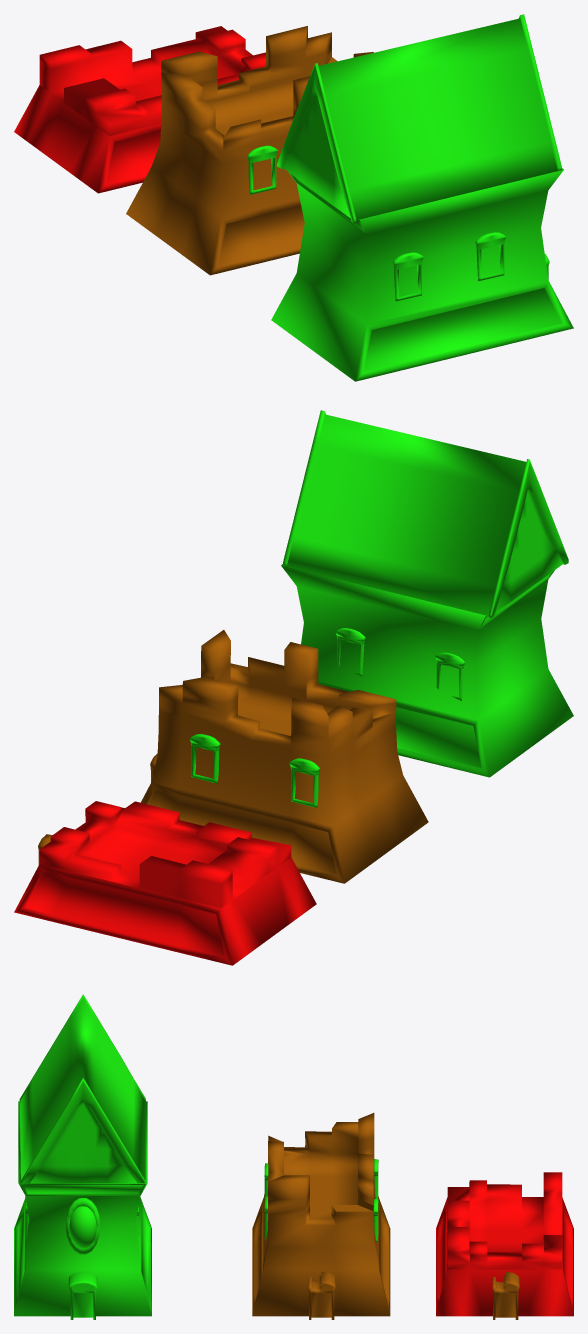
The model's file is arthurjourda_building.fbx.
3 renders of one model, top to bottom at view 1: azimuth 30°, elevation 25°; view 2: azimuth 150°, elevation 25°; view 3: azimuth 270°, elevation 25°, orthographic. The views are drawn at different scales.
Parts seen in each view (by area): view 1: Maison, Toit, Maison001, Maison003, Fenêtre, Fenêtre001; view 2: Maison001, Toit, Maison, Maison003, Fenêtre001, Fenêtre; view 3: Maison001, Toit, Maison003, Maison, Porte, Porte001, Porte002, Joyaux, Or, Fenêtre001.
Boxes of the visible parts, x1,y1,x2,y2 form: Maison: [271, 168, 573, 381]; Toit: [277, 14, 561, 223]; Maison001: [126, 26, 373, 275]; Maison003: [14, 26, 265, 193]; Fenêtre: [392, 232, 506, 301]; Fenêtre001: [247, 145, 277, 194]; Maison001: [141, 630, 428, 883]; Toit: [283, 410, 568, 617]; Maison: [281, 564, 573, 777]; Maison003: [14, 801, 316, 965]; Fenêtre001: [189, 734, 319, 807]; Fenêtre: [335, 628, 464, 700]; Maison001: [252, 1113, 390, 1316]; Toit: [19, 994, 145, 1184]; Maison003: [436, 1172, 573, 1316]; Maison: [14, 1101, 151, 1316]; Porte: [68, 1271, 97, 1319]; Porte001: [308, 1271, 335, 1319]; Porte002: [492, 1271, 519, 1319]; Joyaux: [69, 1206, 96, 1248]; Or: [66, 1198, 100, 1254]; Fenêtre001: [264, 1159, 378, 1241].
Bounding box in the file's own units: 75.24 × 90.55 × 195.
